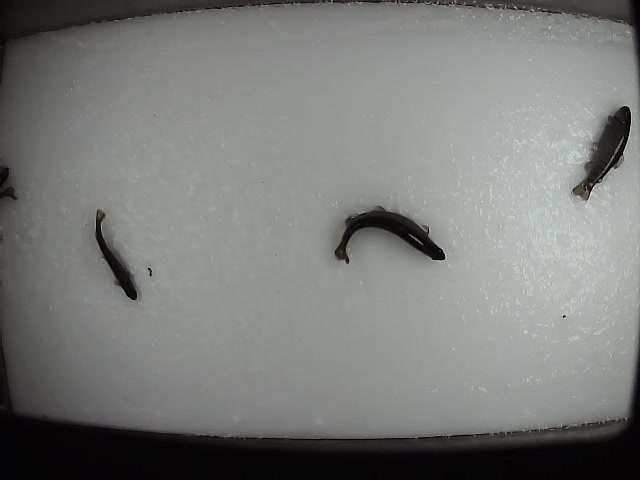fish: (332, 203, 446, 267), (570, 105, 634, 205), (92, 206, 140, 301)
